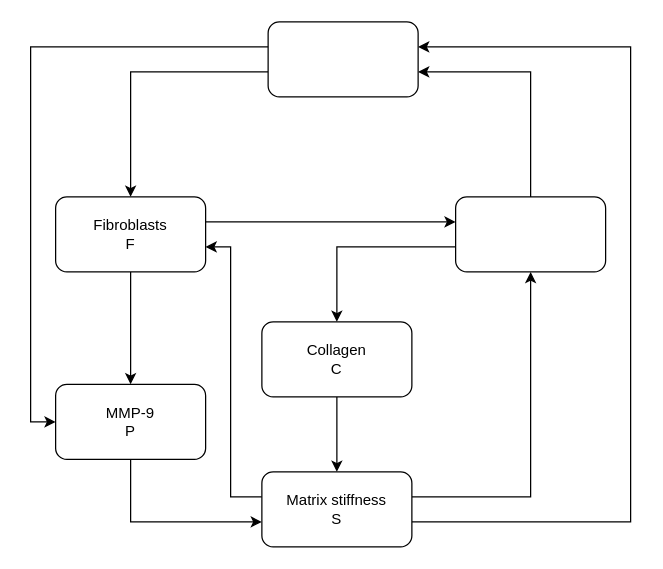
Image size: 663x569. Some labels were removed from this diagram. Each missing label, with the box of its shape:
Inflammatory signal I(t): (267, 21, 418, 97)
Myofibroblasts M: (454, 196, 606, 272)
